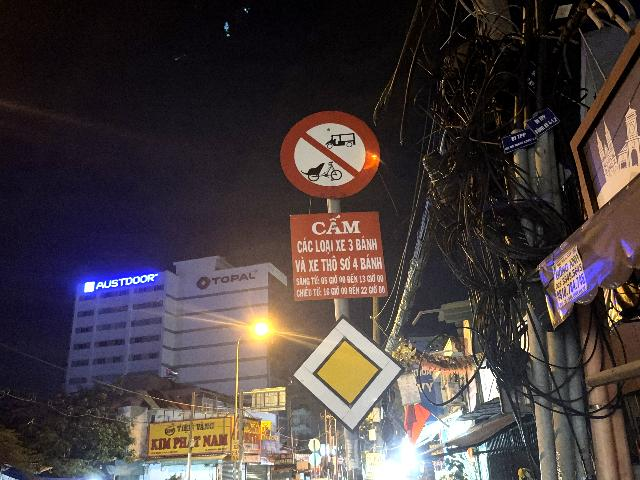bat-dau-duong-uu-tien: (290, 313, 406, 433)
cam-xe-3-banh-xe-tho-so-4-banh: (280, 109, 381, 200)
